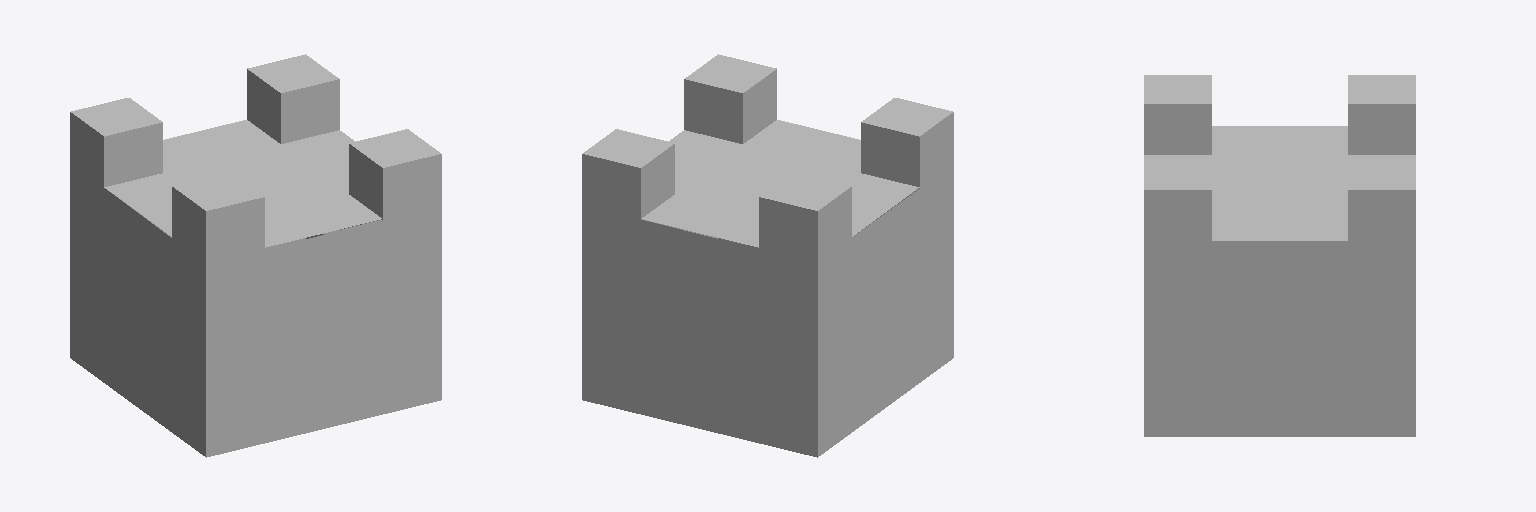
File: wall.obj
3 views of the same model, side by side, from view 1: azimuth 30°, elevation 25°; view 2: azimuth 150°, elevation 25°; view 3: azimuth 270°, elevation 25° (orthographic).
Visible parts, largest first — view 1: Cube; view 2: Cube; view 3: Cube.
Boxes of the visible parts, x1=… form: Cube: x1=70, y1=54, x2=441, y2=457; Cube: x1=582, y1=54, x2=953, y2=457; Cube: x1=1144, y1=75, x2=1415, y2=436.
Bounding box in the file's own units: 2 × 2 × 2.